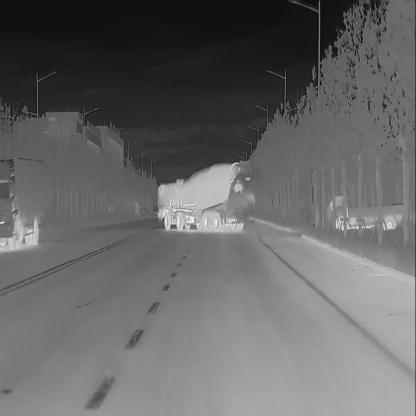truck: (157, 156, 253, 235), (0, 153, 47, 250), (319, 188, 406, 236)
